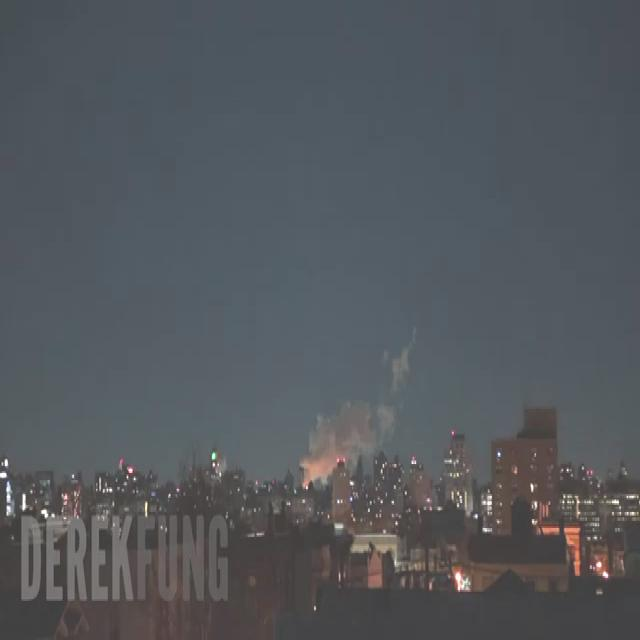smoke: (300, 340, 414, 480)
